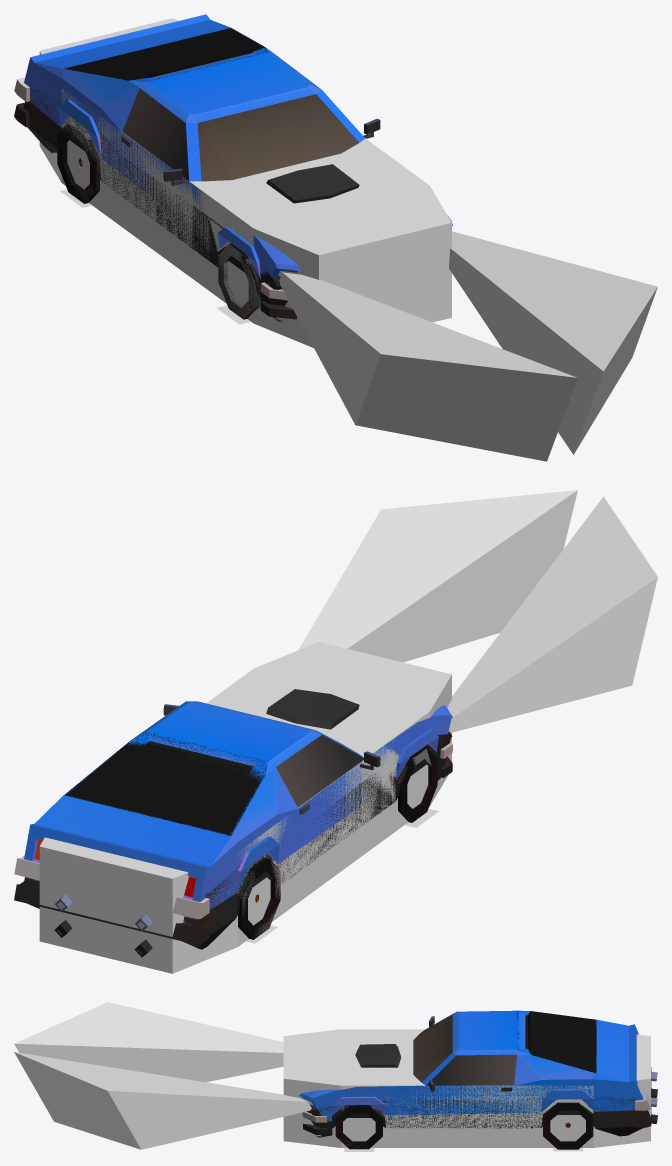
File: Bane.fbx
The picture shows the model from 3 angles, top to bottom: view 1: azimuth 30°, elevation 25°; view 2: azimuth 150°, elevation 25°; view 3: azimuth 270°, elevation 25°; orthographic projection. The views are drawn at different scales.
Visible parts, largest first — view 1: bane_gr, bane_cldr, bane, bane_dead, bane_lckd, bane_frontwheels, bane_rearwheels; view 2: bane_gr, bane_cldr, bane, bane_lckd, bane_dead; view 3: bane_gr, bane, bane_cldr, bane_lckd, bane_dead.
Boxes of the visible parts, <box> form: bane_gr: <box>279,231,657,461</box>; bane_cldr: <box>39,18,451,347</box>; bane: <box>14,14,452,300</box>; bane_dead: <box>14,84,296,321</box>; bane_lckd: <box>57,28,267,308</box>; bane_frontwheels: <box>218,244,259,319</box>; bane_rearwheels: <box>57,122,99,202</box>; bane_gr: <box>298,490,657,732</box>; bane_cldr: <box>39,642,451,973</box>; bane: <box>14,689,452,931</box>; bane_lckd: <box>64,732,437,939</box>; bane_dead: <box>14,731,452,957</box>; bane_gr: <box>14,1002,311,1149</box>; bane: <box>299,1010,657,1122</box>; bane_cldr: <box>283,1029,650,1147</box>; bane_lckd: <box>335,1011,596,1149</box>; bane_dead: <box>303,1067,657,1137</box>.
Size of the model in its own units: 5.14 by 2.42 by 15.75.
